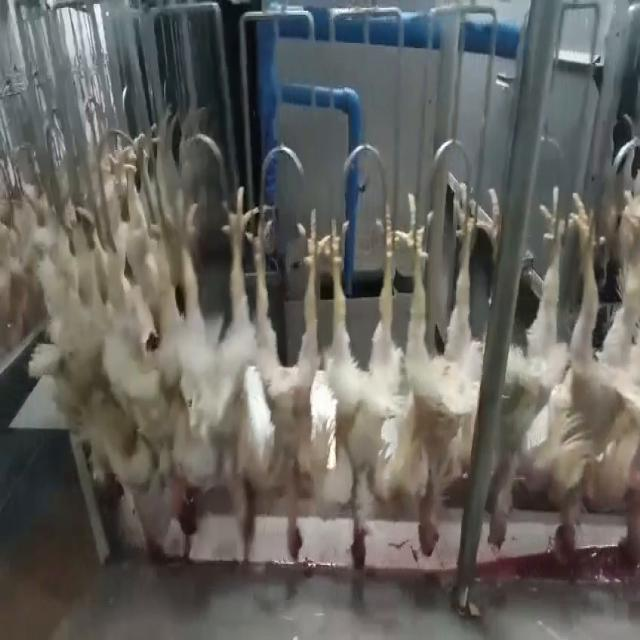chicken: (395, 175, 483, 558), (82, 175, 178, 508), (174, 168, 255, 562), (320, 187, 400, 576), (517, 187, 594, 566), (255, 189, 324, 567), (590, 173, 639, 563), (484, 332, 526, 552)
